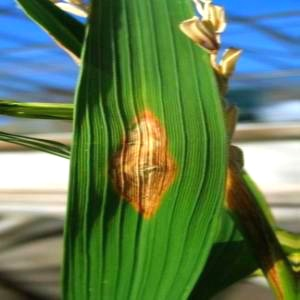Brown_Spot: (105, 99, 189, 246)
